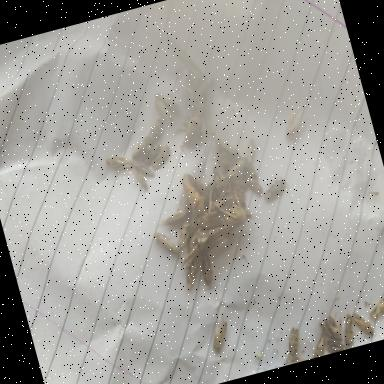pbw: (150, 224, 184, 264), (175, 110, 208, 148), (212, 127, 240, 163), (261, 172, 293, 202), (105, 151, 137, 181), (207, 319, 236, 352), (153, 85, 181, 118), (280, 106, 308, 139), (282, 324, 306, 362), (179, 255, 205, 290), (190, 74, 220, 102), (228, 201, 262, 225), (208, 190, 242, 214), (181, 78, 204, 112), (351, 308, 375, 340), (196, 249, 216, 287), (148, 142, 176, 169), (127, 134, 156, 160), (171, 218, 194, 250), (186, 166, 208, 198), (180, 232, 202, 264), (338, 313, 358, 348), (196, 223, 225, 247), (197, 210, 225, 232), (130, 156, 155, 180), (159, 208, 188, 228), (244, 136, 262, 168), (224, 156, 249, 178), (211, 164, 229, 194), (328, 314, 346, 344), (146, 120, 167, 144), (180, 197, 197, 226), (319, 316, 337, 343), (244, 174, 266, 196), (308, 335, 328, 358), (367, 295, 384, 319), (190, 212, 204, 238), (131, 170, 149, 190), (327, 336, 346, 354), (201, 176, 219, 194)
